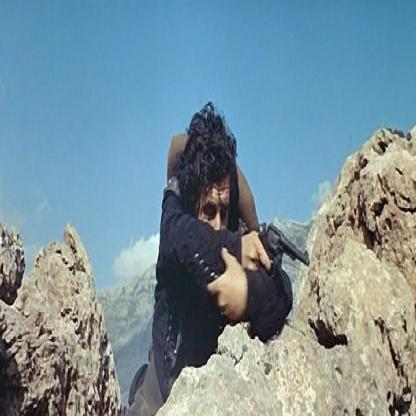gun: (253, 207, 316, 294)
